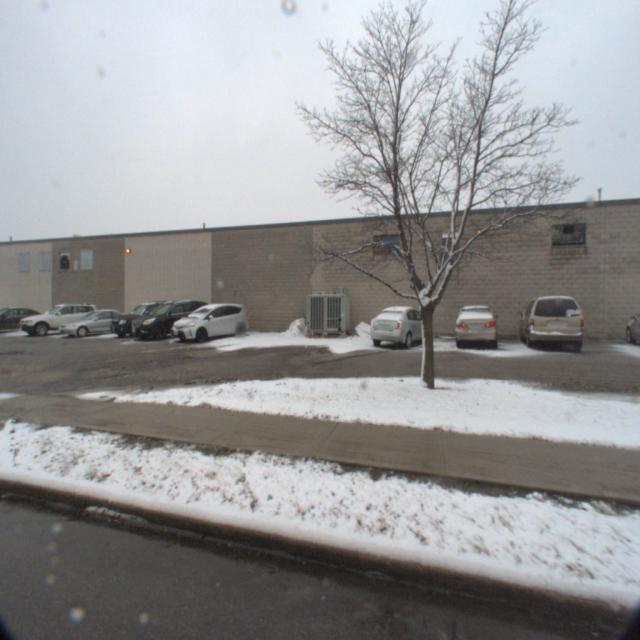Car: (513, 289, 587, 351), (121, 297, 214, 344), (163, 301, 253, 344), (101, 298, 186, 340), (362, 301, 432, 352), (8, 302, 100, 339), (49, 306, 138, 341), (448, 300, 496, 350)
